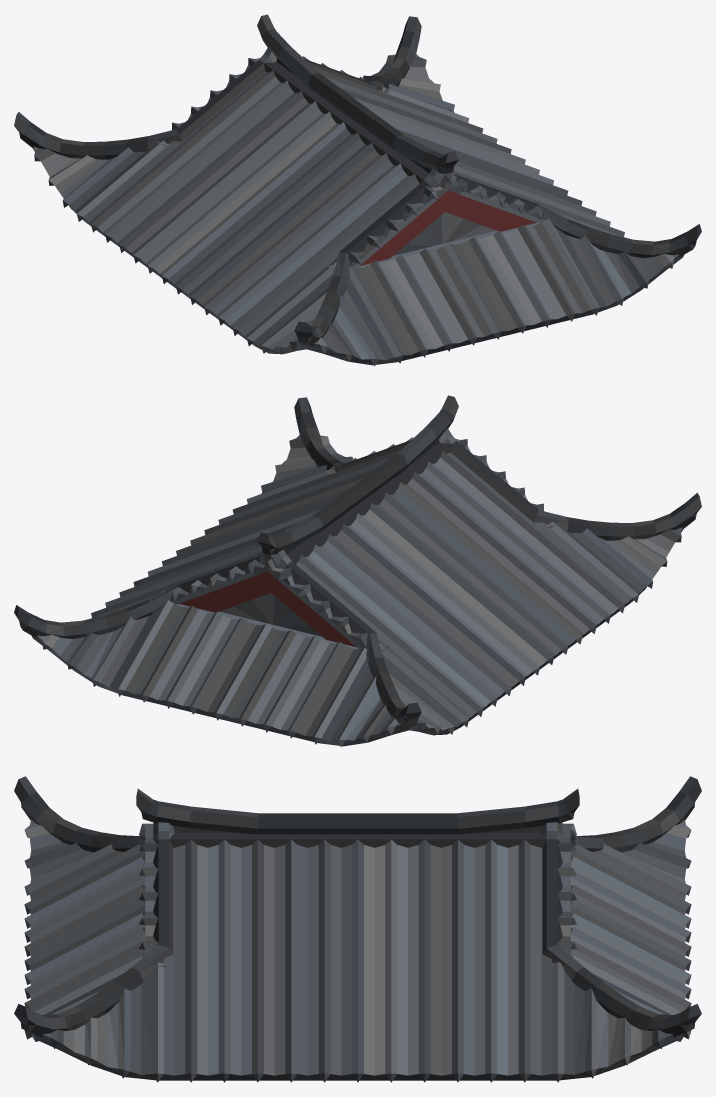
The model's file is BuildingA-Sm_Roof.fbx.
3 views of the same model, one above another, from view 1: azimuth 30°, elevation 25°; view 2: azimuth 150°, elevation 25°; view 3: azimuth 270°, elevation 25° (orthographic). The views are drawn at different scales.
Parts seen in each view (by area): view 1: BuildingA-Sm_Roof; view 2: BuildingA-Sm_Roof; view 3: BuildingA-Sm_Roof.
Boxes of the visible parts, x1=… form: BuildingA-Sm_Roof: x1=14, y1=14, x2=701, y2=366; BuildingA-Sm_Roof: x1=14, y1=395, x2=701, y2=747; BuildingA-Sm_Roof: x1=14, y1=776, x2=701, y2=1082.
Bounding box in the file's own units: 1039 × 376 × 1289.
